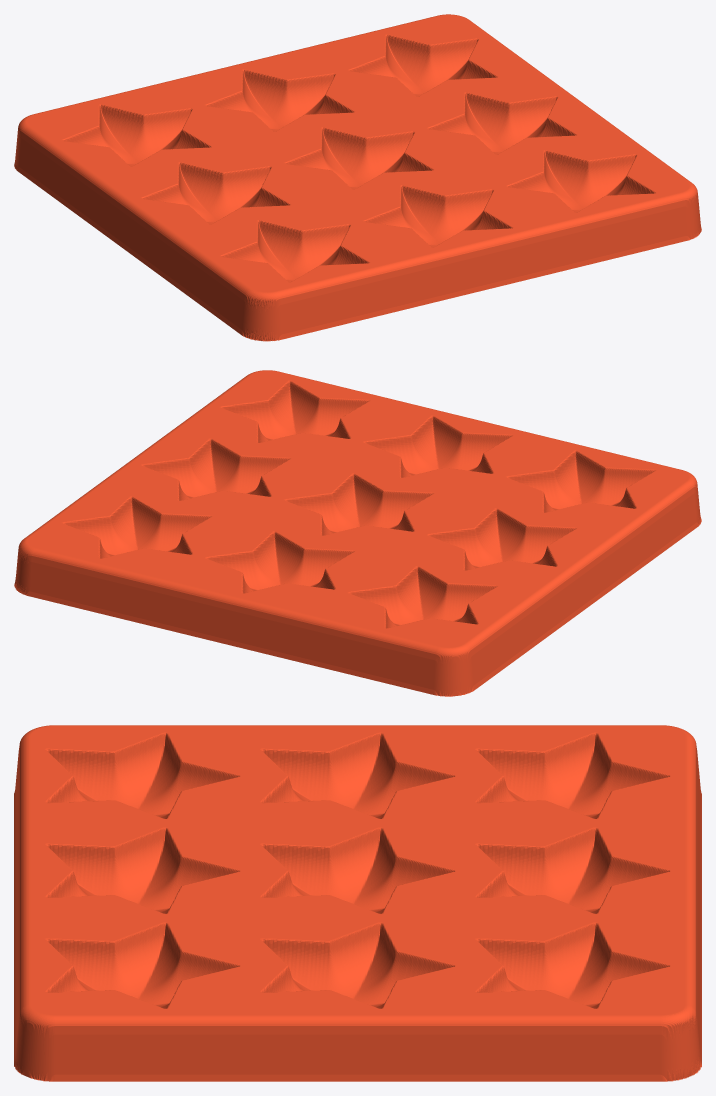
The model's file is mold.glb.
The picture shows the model from 3 angles, top to bottom: view 1: azimuth 30°, elevation 25°; view 2: azimuth 150°, elevation 25°; view 3: azimuth 270°, elevation 25°; orthographic projection. The views are drawn at different scales.
Parts seen in each view (by area): view 1: geometry_0; view 2: geometry_0; view 3: geometry_0.
Part boxes in pixels (x1,y1,x2,y2): geometry_0: (14, 14, 701, 341); geometry_0: (14, 370, 701, 696); geometry_0: (14, 725, 701, 1081).
Size of the model in its own units: 0.1579 by 0.0145 by 0.1516.
